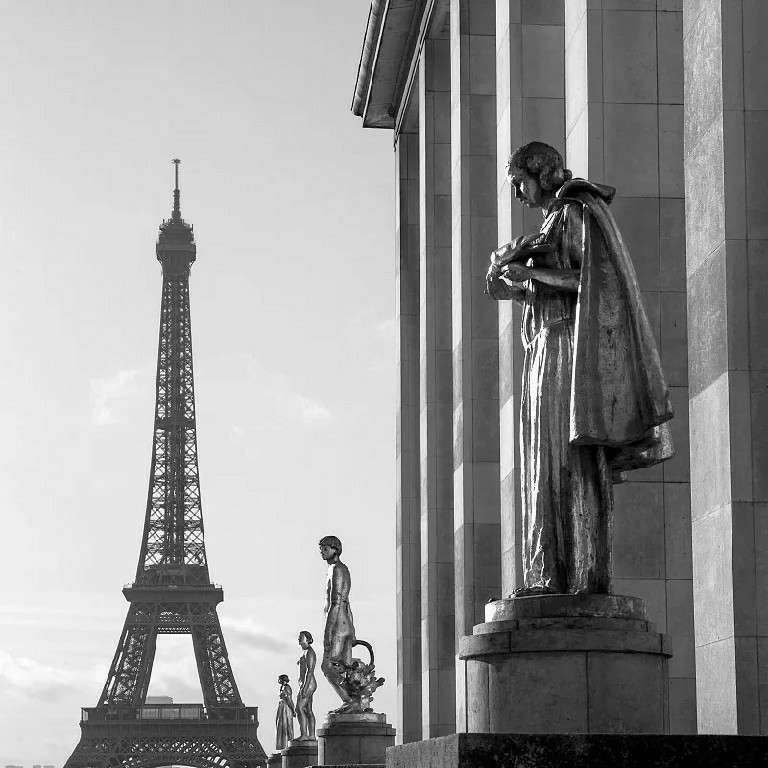Eiffel: (63, 154, 269, 768)
